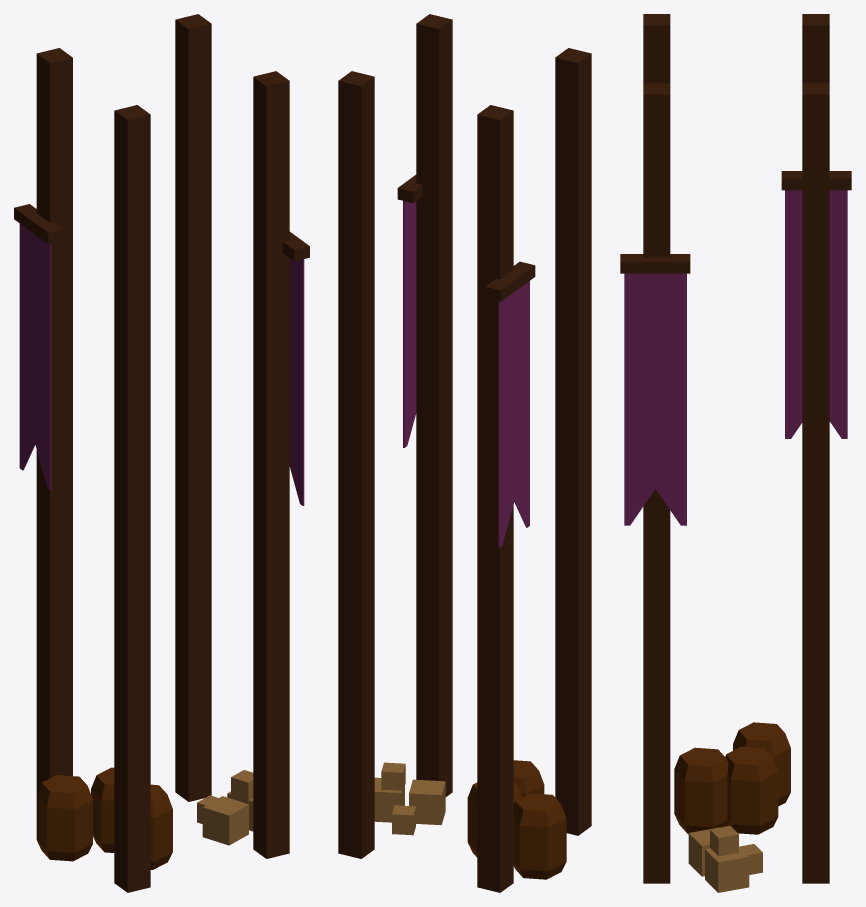
The model's file is ClockBuildPhase1v1.fbx.
The picture shows the model from 3 angles, left to right: view 1: azimuth 30°, elevation 25°; view 2: azimuth 150°, elevation 25°; view 3: azimuth 270°, elevation 25°; orthographic projection. The views are drawn at different scales.
Parts seen in each view (by area): view 1: Cube.2634; view 2: Cube.2634; view 3: Cube.2634.
Part boxes in pixels (x1=…): Cube.2634: x1=14, y1=14, x2=309, y2=892; Cube.2634: x1=338, y1=14, x2=591, y2=892; Cube.2634: x1=620, y1=14, x2=851, y2=892.
Size of the model in its own units: 61.86 by 217 by 57.71.
